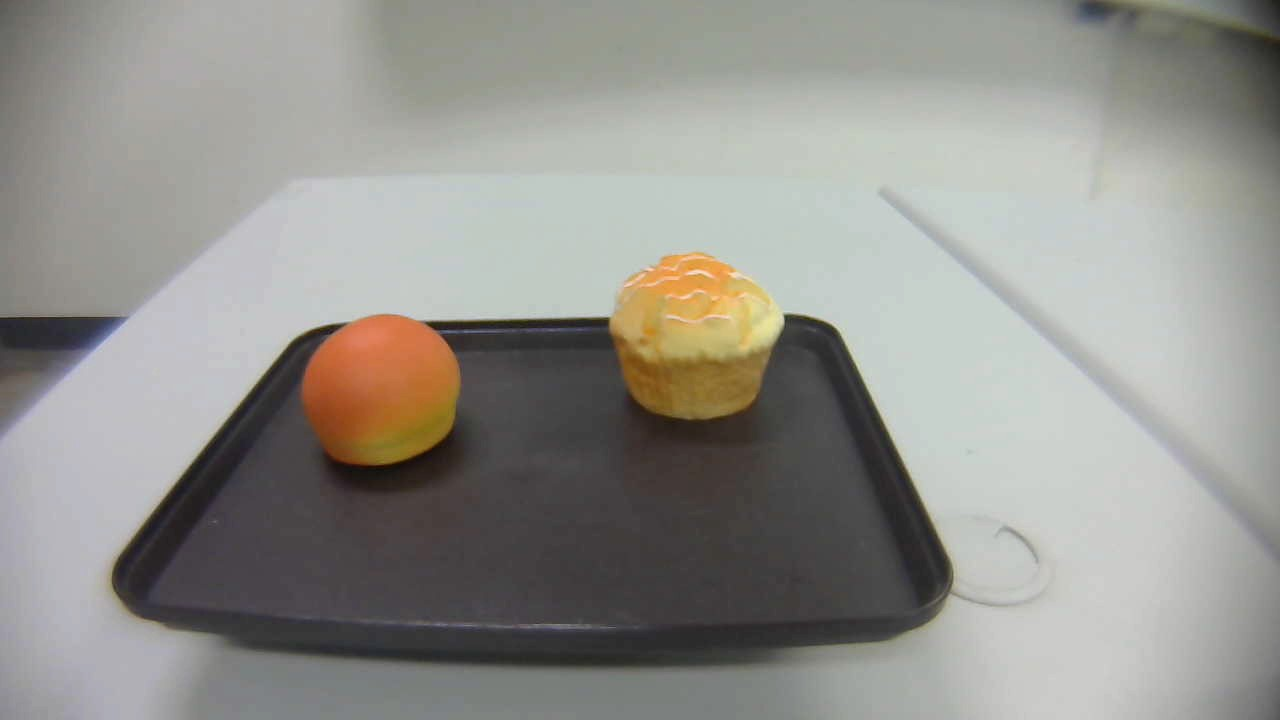bun: (300, 314, 461, 466)
cupcake: (609, 252, 784, 419)
